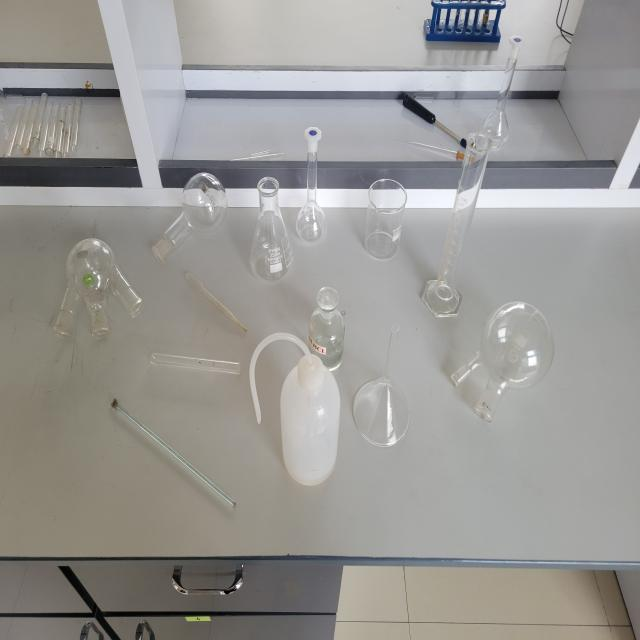Beaker: (348, 169, 421, 272)
Conical_Flask: (234, 168, 307, 297)
Funnel: (345, 306, 421, 470)
Glass_Rod: (95, 378, 249, 522)
Measuring_Cylinder: (411, 125, 505, 333)
Pipette: (174, 264, 256, 343)
Round_Bottom_Flask_Borosilicate_Glass_1_Neck: (140, 156, 241, 275)
Round_Bottom_Flask_Borosilicate_Glass_2_Neck: (436, 264, 576, 458)
Round_Bottom_Flask_Borosilicate_Glass_3_Neck: (37, 220, 159, 359)
Test_Tube: (139, 338, 243, 381)
Volumetric_Flask: (296, 122, 331, 256)
Wash_Bottle: (243, 326, 346, 503)
